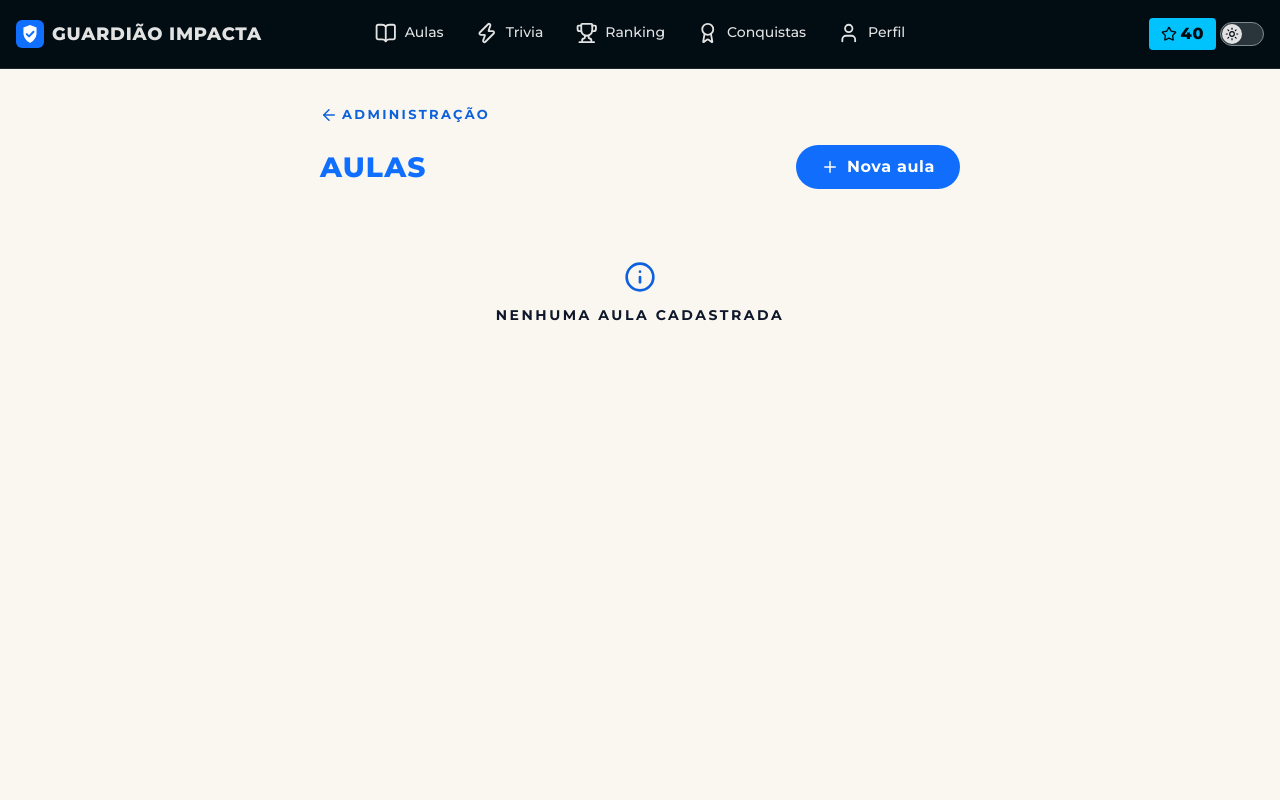
Test case: Aulas (admin) › lista vazia e erro de validação ao criar
Expected: the navigation bar named "Navegação principal" is shown, x1=375 y1=22 x2=905 y2=44
Expected: the text "Nenhuma aula cadastrada" is shown, x1=496 y1=305 x2=784 y2=326
Click the button "Nova aula".
click(878, 167)  # box x1=796 y1=145 x2=960 y2=189
(page scrolled)
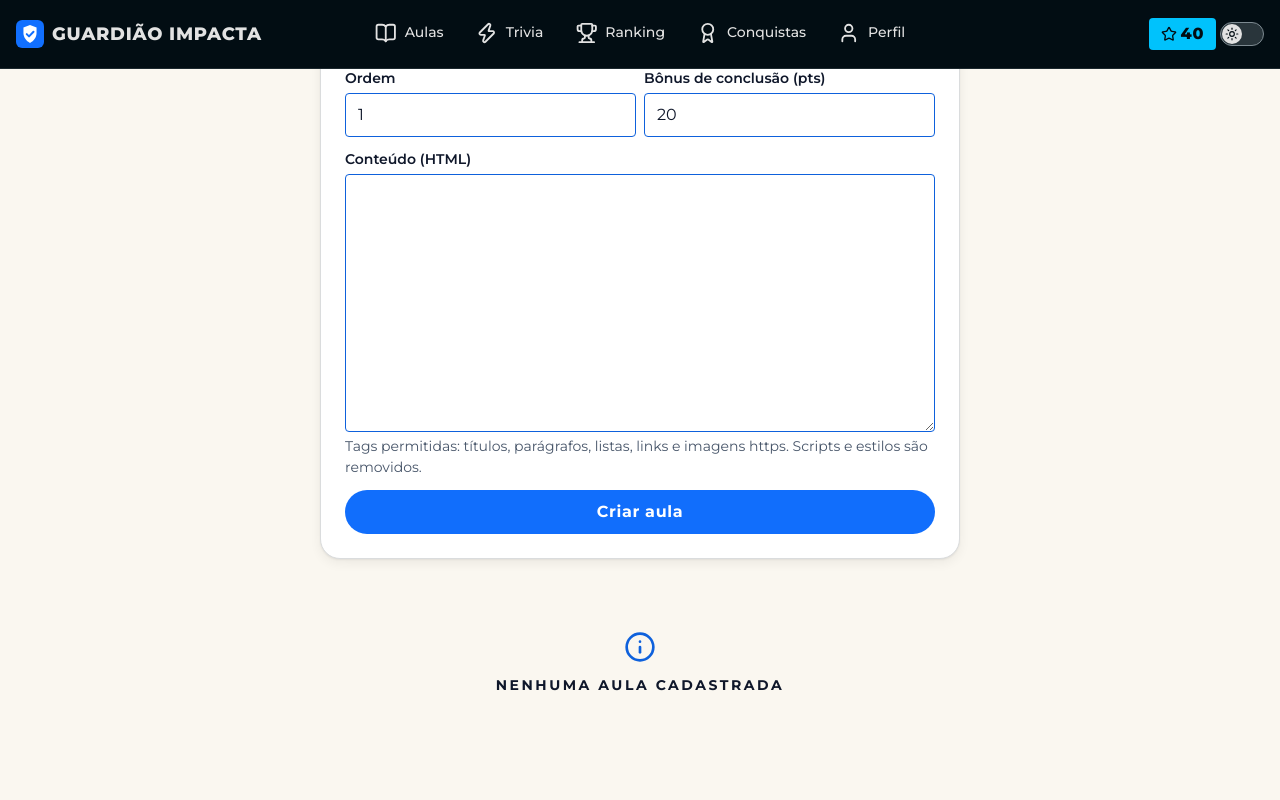
Click the button "Criar aula".
click(640, 512)  # box x1=345 y1=490 x2=935 y2=534
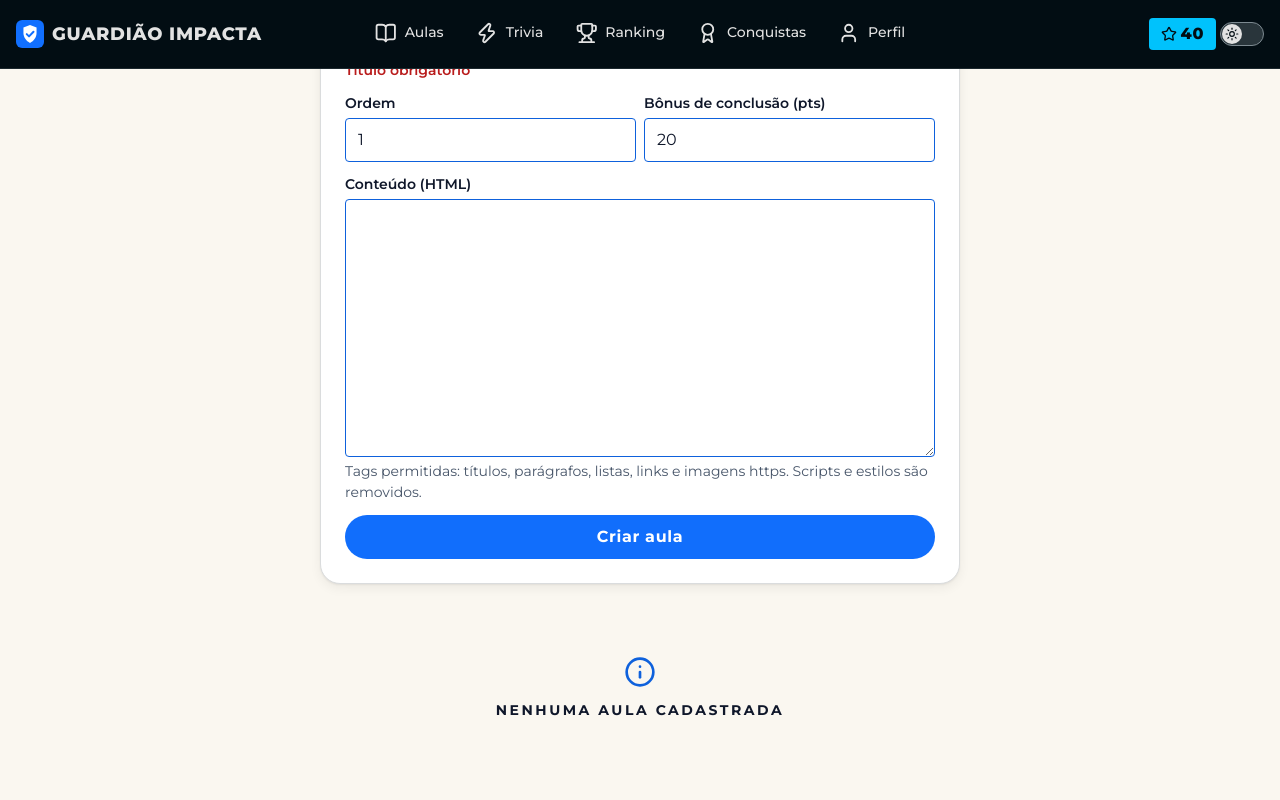
Now the text "Título obrigatório" is shown, box x1=345 y1=60 x2=470 y2=78
